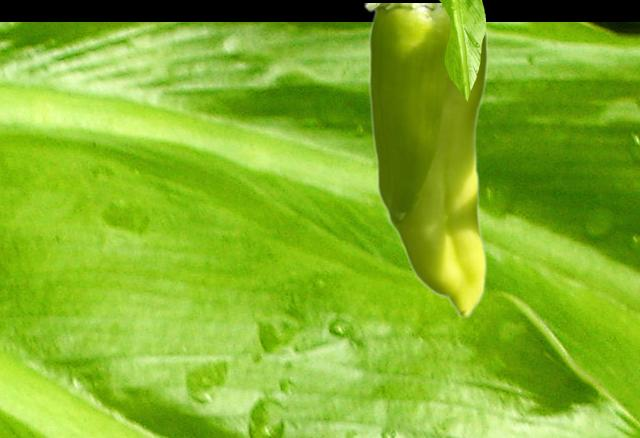green_chili: (363, 3, 486, 316)
